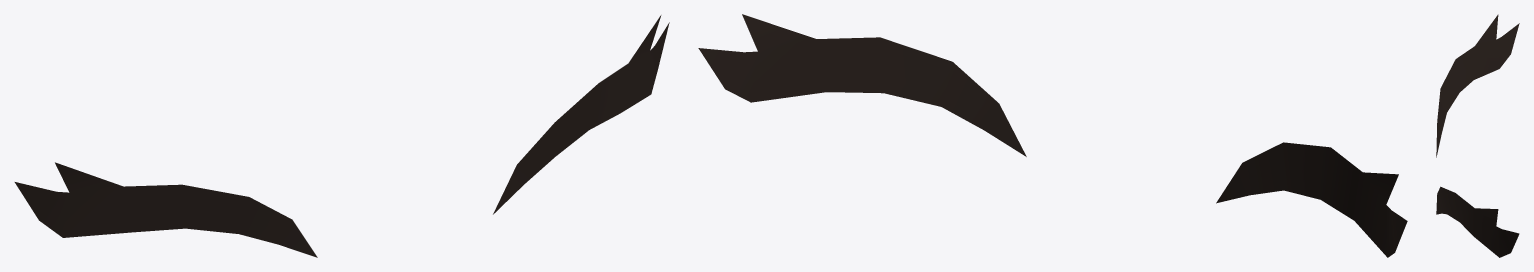
File: Eye_4.fbx
The picture shows the model from 3 angles, left to right: view 1: azimuth 30°, elevation 25°; view 2: azimuth 150°, elevation 25°; view 3: azimuth 270°, elevation 25°; orthographic projection. The views are drawn at different scales.
Visible parts, largest first — view 1: Eye_4; view 2: Eye_4; view 3: Eye_4.
Boxes of the visible parts, left/top/right/bottom form: Eye_4: left=14, top=15, right=669, bottom=257; Eye_4: left=698, top=14, right=1407, bottom=257; Eye_4: left=1436, top=14, right=1519, bottom=257.
Bounding box in the file's own units: 37.85 × 6.3 × 6.33.
